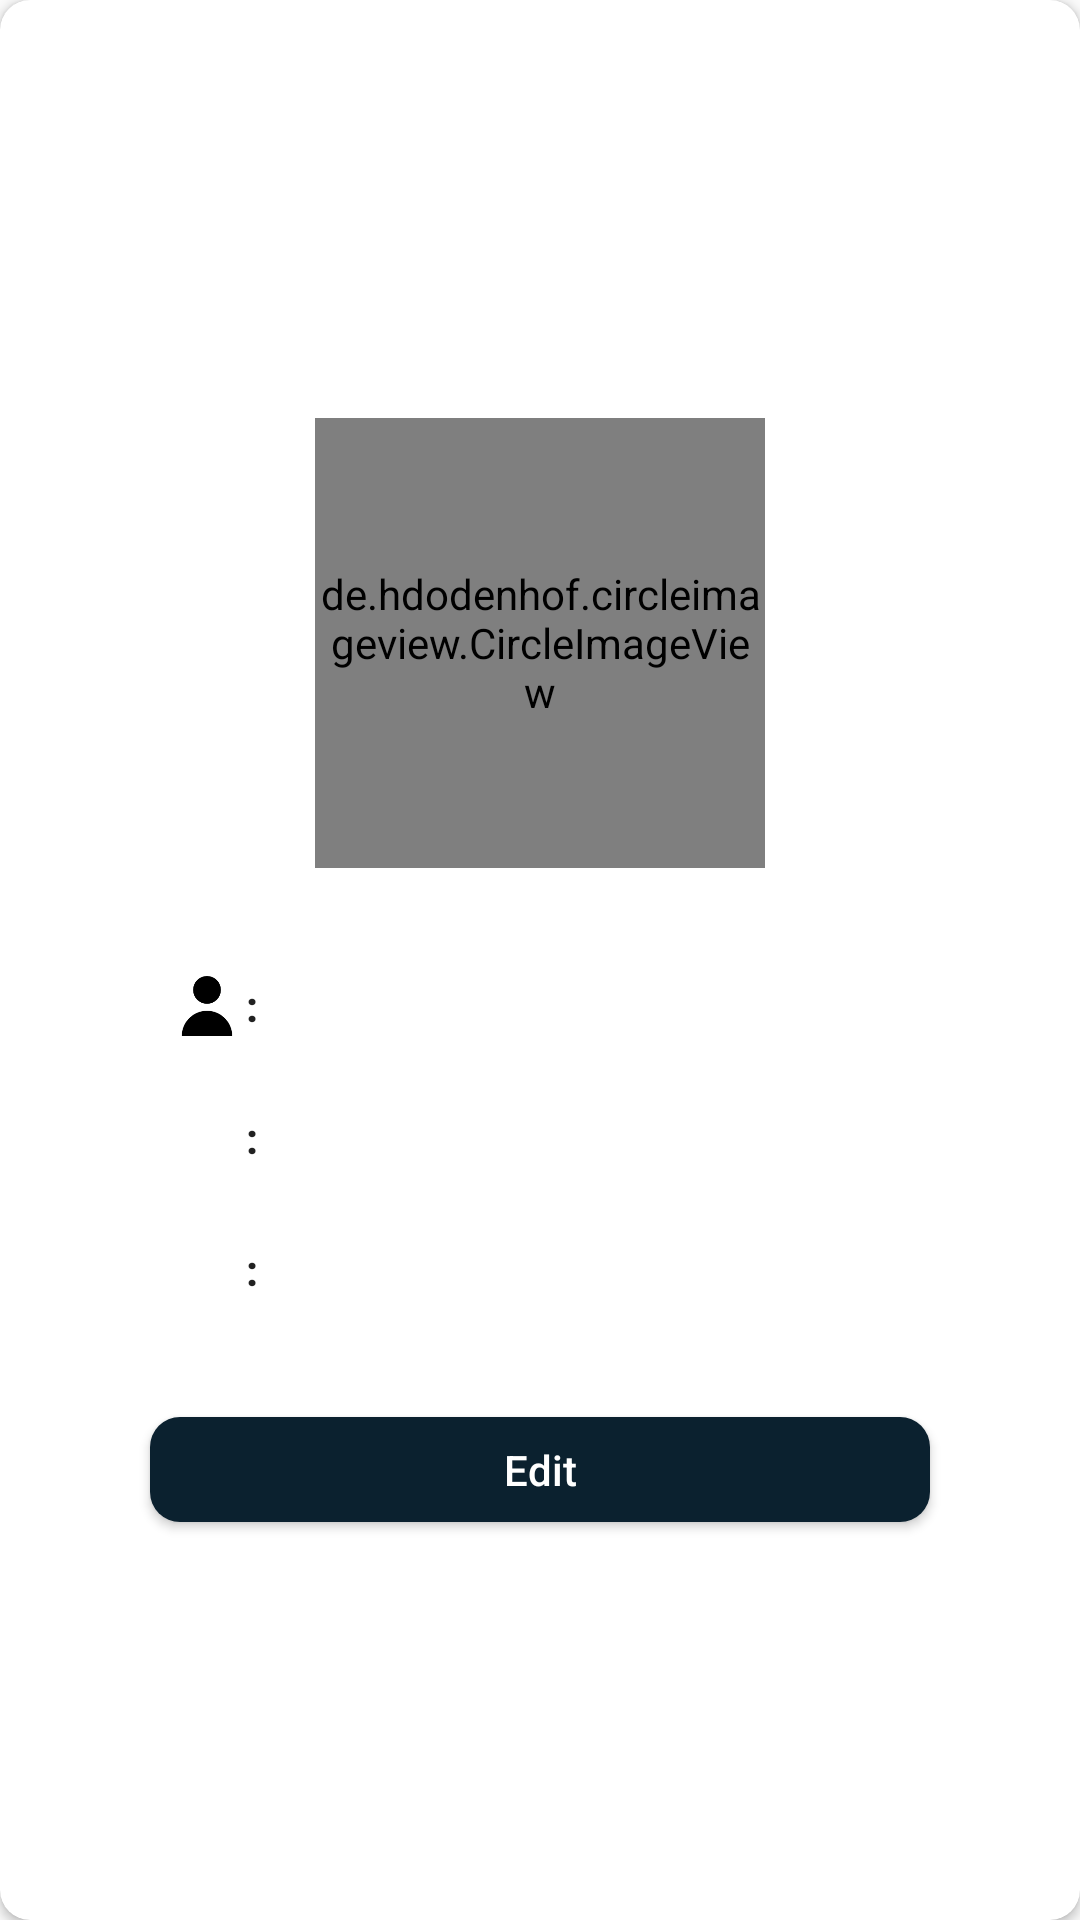

Named icons in this screenshot (1080px×1920px) and their bounding boxes, (x1, y1, x2, y2):
user: (182, 976, 232, 1036)
